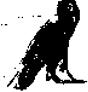Owl: (7, 0, 83, 91)
